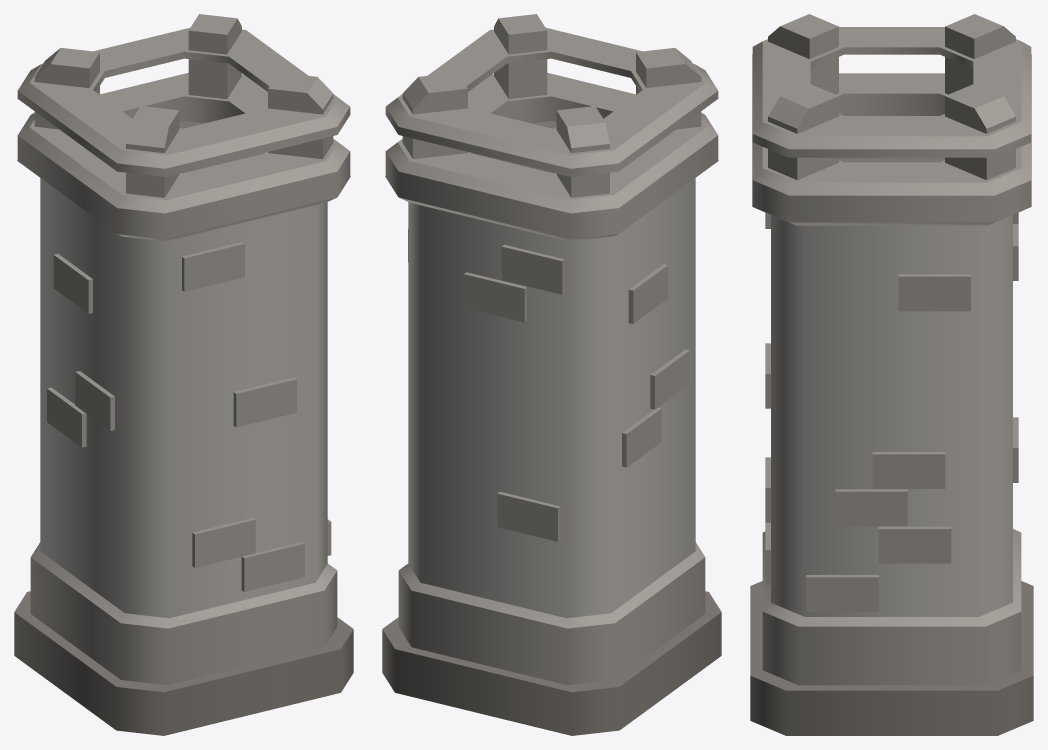
Rendered from Tower 01.FBX.
The picture shows the model from 3 angles, left to right: view 1: azimuth 30°, elevation 25°; view 2: azimuth 150°, elevation 25°; view 3: azimuth 270°, elevation 25°; orthographic projection. The views are drawn at different scales.
Visible parts, largest first — view 1: Tower 01; view 2: Tower 01; view 3: Tower 01.
Boxes of the visible parts, left/top/right/bottom form: Tower 01: left=14, top=14, right=353, bottom=735; Tower 01: left=382, top=14, right=721, bottom=735; Tower 01: left=750, top=14, right=1033, bottom=735.
Size of the model in its own units: 252 by 602 by 252.
1 material, 1 textured.
